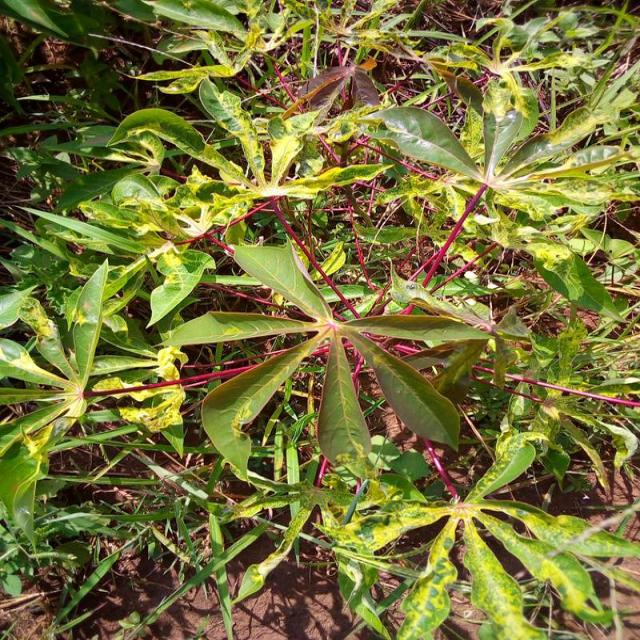Mosaico: (0, 51, 200, 328), (311, 470, 586, 617), (103, 50, 347, 197), (411, 76, 620, 236), (501, 302, 640, 519), (3, 223, 109, 465)
